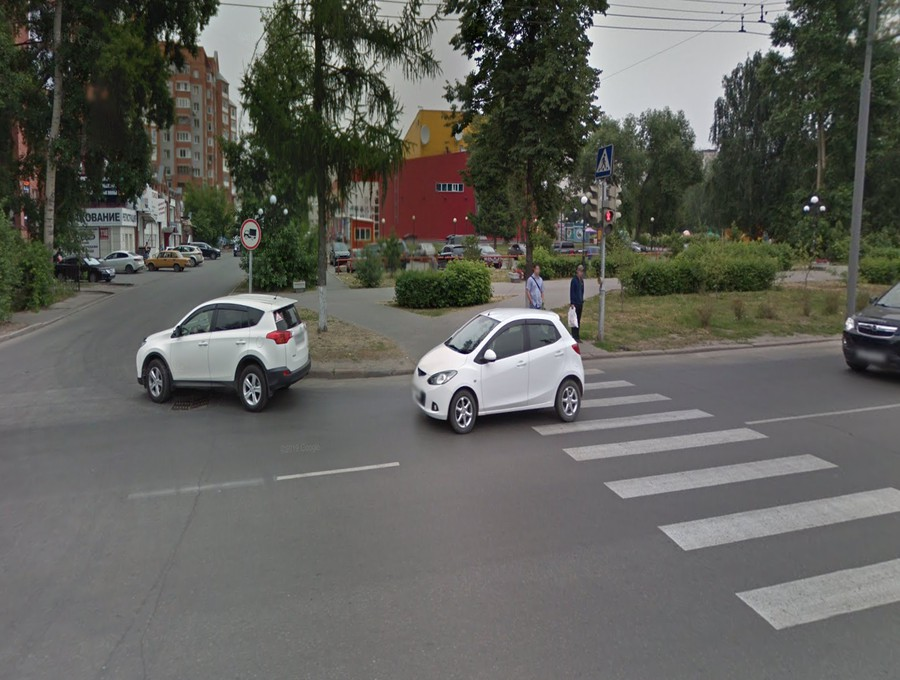Traffic Light-red: (604, 208, 614, 234)
